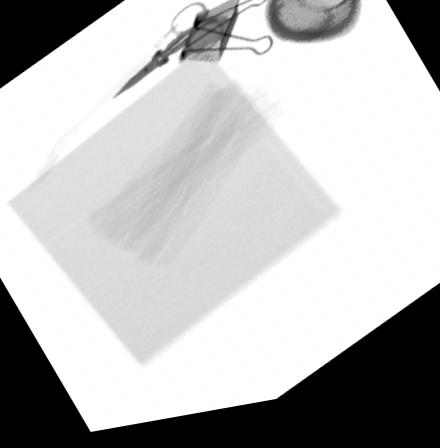Scissors: (109, 6, 227, 102)
